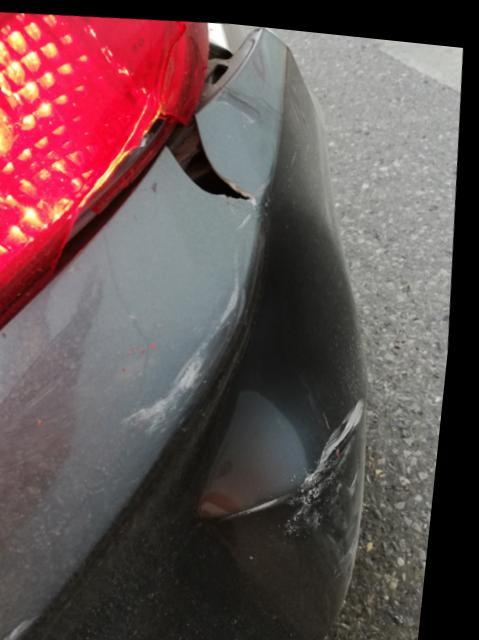crack: (170, 111, 261, 196)
lamp broken: (0, 12, 211, 338)
scratch: (131, 259, 253, 436), (234, 385, 376, 522)
